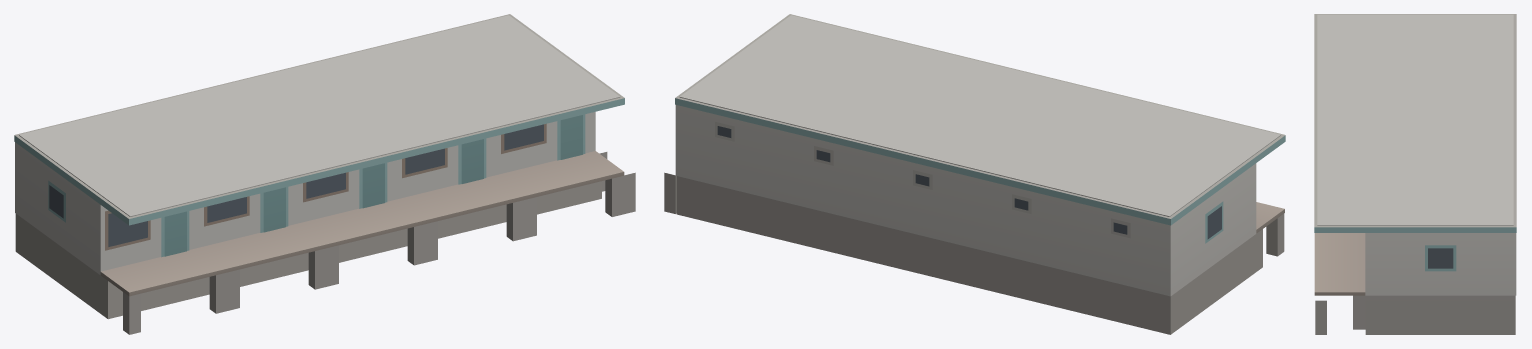
File: rooms.lod2.glb
3 views of the same model, side by side, from view 1: azimuth 30°, elevation 25°; view 2: azimuth 150°, elevation 25°; view 3: azimuth 270°, elevation 25° (orthographic). The views are drawn at different scales.
Bounding box in the file's own units: 20.53 × 4.53 × 8.07.
